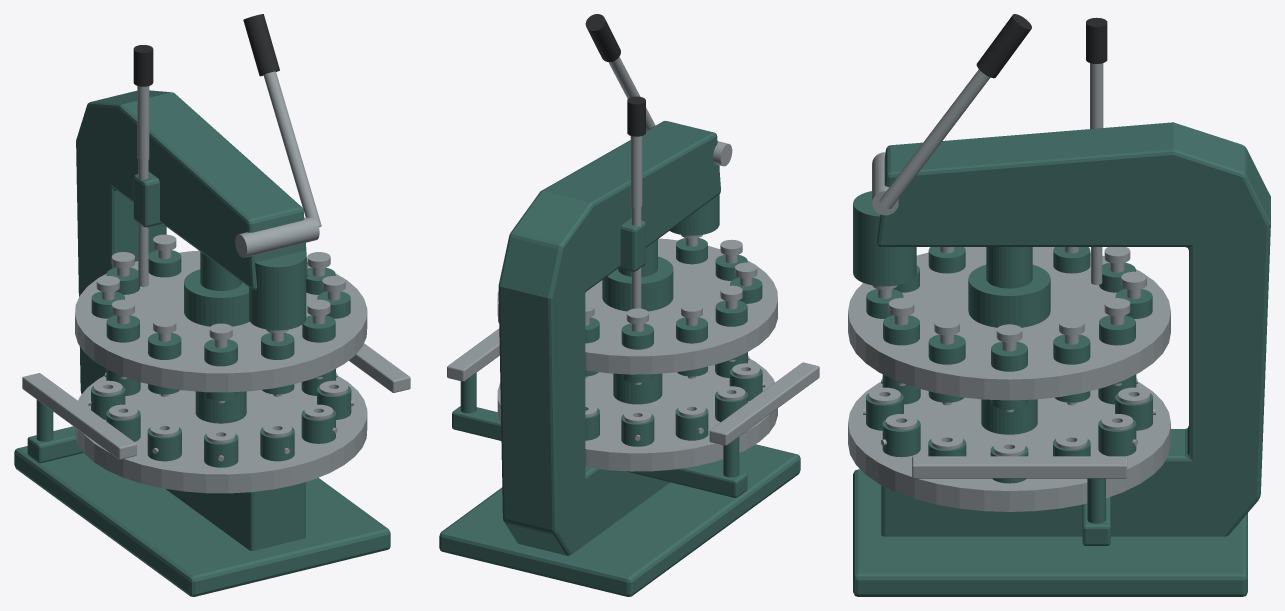
File: full.glb
3 views of the same model, side by side, from view 1: azimuth 30°, elevation 25°; view 2: azimuth 150°, elevation 25°; view 3: azimuth 270°, elevation 25° (orthographic). The views are drawn at different scales.
Parts seen in each view (by area): view 1: Deep C casting, Machine mounting base, Upper turret, Lower turret, Front ram guide, Side gauge rail -1, Upper hub, Operating arm, Cam pivot, Side gauge rail 1, Index mounting lug, Operating grip (+23 smaller); view 2: Deep C casting, Machine mounting base, Upper turret, Lower turret, Side gauge rail -1, Upper hub, Side table bracket -1, Side gauge rail 1, Index mounting lug, Side table bracket 1, Central turret column, Front ram guide (+18 smaller); view 3: Deep C casting, Machine mounting base, Upper turret, Lower turret, Side gauge rail 1, Upper hub, Front ram guide, Operating arm, Hub support, Operating grip, Central turret column, Upper punch sleeve 3 (+18 smaller).
Boxes of the visible parts, x1=… form: Deep C casting: x1=76, y1=90, x2=307, y2=550; Machine mounting base: x1=14, y1=446, x2=390, y2=596; Upper turret: x1=75, y1=250, x2=367, y2=392; Lower turret: x1=75, y1=376, x2=367, y2=493; Front ram guide: x1=249, y1=250, x2=306, y2=330; Side gauge rail -1: x1=22, y1=373, x2=136, y2=459; Upper hub: x1=184, y1=269, x2=249, y2=326; Operating arm: x1=263, y1=71, x2=321, y2=227; Cam pivot: x1=235, y1=217, x2=319, y2=257; Side gauge rail 1: x1=348, y1=343, x2=410, y2=392; Index mounting lug: x1=133, y1=172, x2=161, y2=227; Operating grip: x1=243, y1=14, x2=279, y2=76; Deep C casting: x1=498, y1=120, x2=720, y2=555; Machine mounting base: x1=439, y1=444, x2=800, y2=596; Upper turret: x1=497, y1=238, x2=777, y2=374; Lower turret: x1=497, y1=359, x2=777, y2=471; Side gauge rail -1: x1=709, y1=362, x2=819, y2=445; Upper hub: x1=602, y1=256, x2=673, y2=311; Side table bracket -1: x1=626, y1=463, x2=747, y2=497; Side gauge rail 1: x1=447, y1=328, x2=499, y2=381; Index mounting lug: x1=618, y1=218, x2=645, y2=271; Side table bracket 1: x1=452, y1=406, x2=501, y2=440; Central turret column: x1=613, y1=373, x2=662, y2=404; Front ram guide: x1=669, y1=165, x2=719, y2=235; Deep C casting: x1=876, y1=122, x2=1270, y2=536; Machine mounting base: x1=853, y1=469, x2=1247, y2=596; Upper turret: x1=848, y1=247, x2=1170, y2=400; Lower turret: x1=848, y1=382, x2=1170, y2=511; Side gauge rail 1: x1=912, y1=456, x2=1127, y2=478; Upper hub: x1=968, y1=264, x2=1050, y2=327; Front ram guide: x1=853, y1=191, x2=916, y2=286; Operating arm: x1=879, y1=69, x2=990, y2=208; Hub support: x1=986, y1=247, x2=1032, y2=288; Operating grip: x1=976, y1=14, x2=1031, y2=78; Central turret column: x1=981, y1=399, x2=1037, y2=434; Upper punch sleeve 3: x1=991, y1=341, x2=1027, y2=409.
Bounding box in the file's own units: 0.74 × 1.18 × 0.825.
